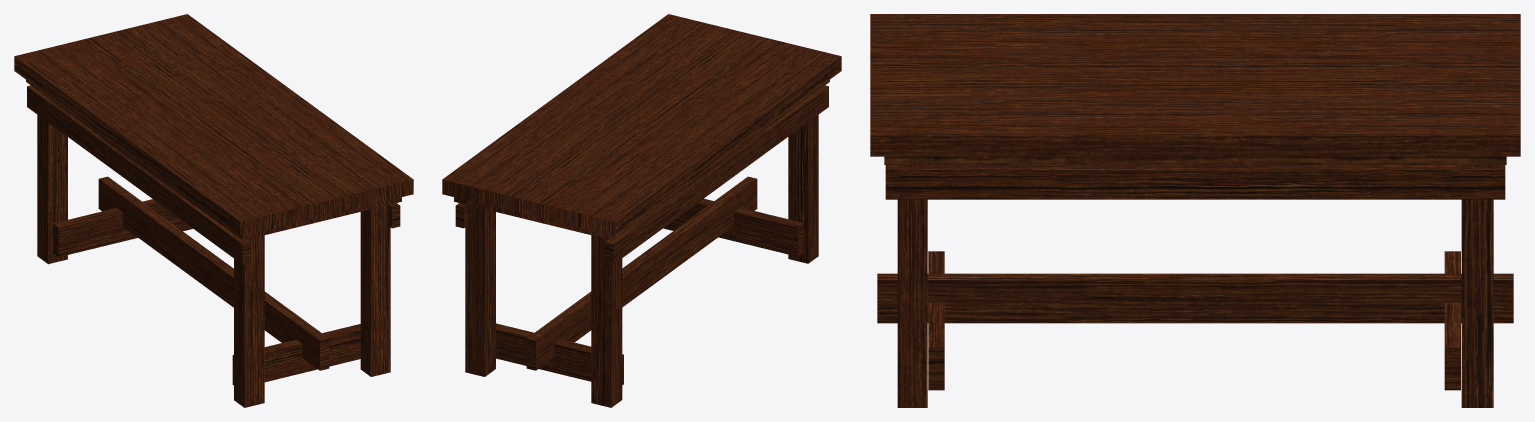
The model's file is tafel.fbx.
3 views of the same model, side by side, from view 1: azimuth 30°, elevation 25°; view 2: azimuth 150°, elevation 25°; view 3: azimuth 270°, elevation 25° (orthographic). The views are drawn at different scales.
Visible parts, largest first — view 1: pCube9; view 2: pCube9; view 3: pCube9.
Boxes of the visible parts, bbox=[...] form: pCube9: bbox=[14, 14, 413, 407]; pCube9: bbox=[442, 14, 841, 407]; pCube9: bbox=[870, 14, 1520, 407].
Size of the model in its own units: 7.01 by 7.58 by 15.84.
1 material, 1 textured.
